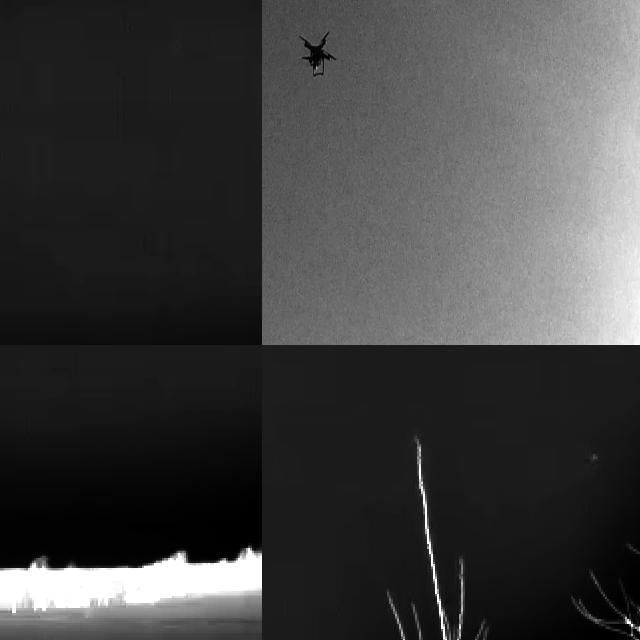0: (578, 445, 610, 478)
drone: (298, 29, 338, 84)
